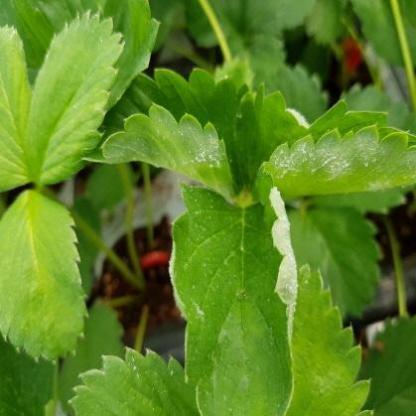Strawberry_Powdery_Mildew_Leaf: (167, 164, 300, 415), (78, 68, 252, 203), (233, 82, 415, 200)
